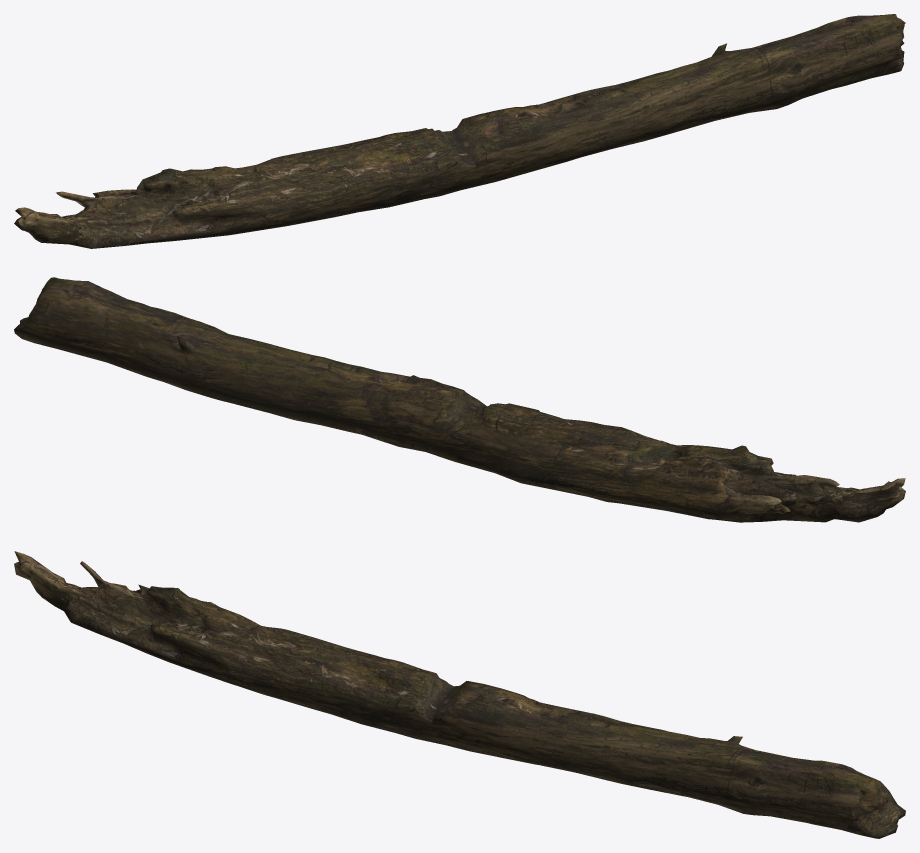
Rendered from log_1.gltf.
The picture shows the model from 3 angles, top to bottom: view 1: azimuth 30°, elevation 25°; view 2: azimuth 150°, elevation 25°; view 3: azimuth 330°, elevation 25°; orthographic projection.
Visible parts, largest first — view 1: log_1; view 2: log_1; view 3: log_1.
Part boxes in pixels (bbox=[...]): log_1: bbox=[14, 14, 905, 248]; log_1: bbox=[14, 277, 905, 522]; log_1: bbox=[14, 551, 905, 838].
Size of the model in its own units: 3.05 by 0.2899 by 0.2764.
Materials: 1 (1 with a texture image).
